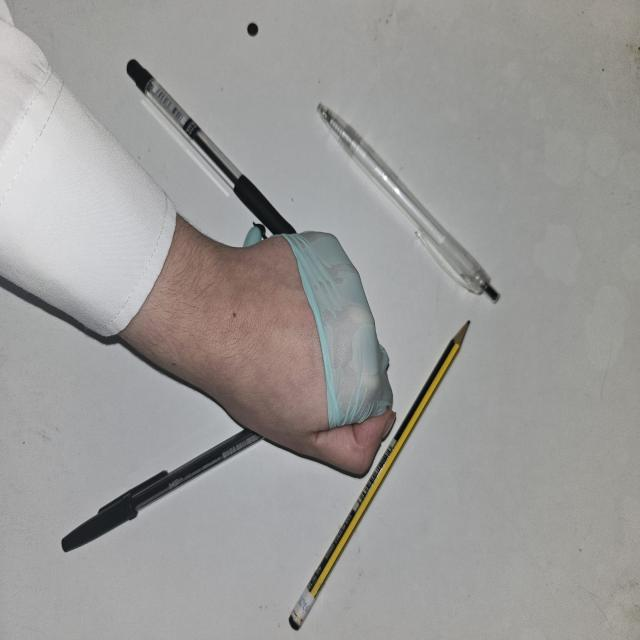glove_partial: (226, 223, 398, 478)
